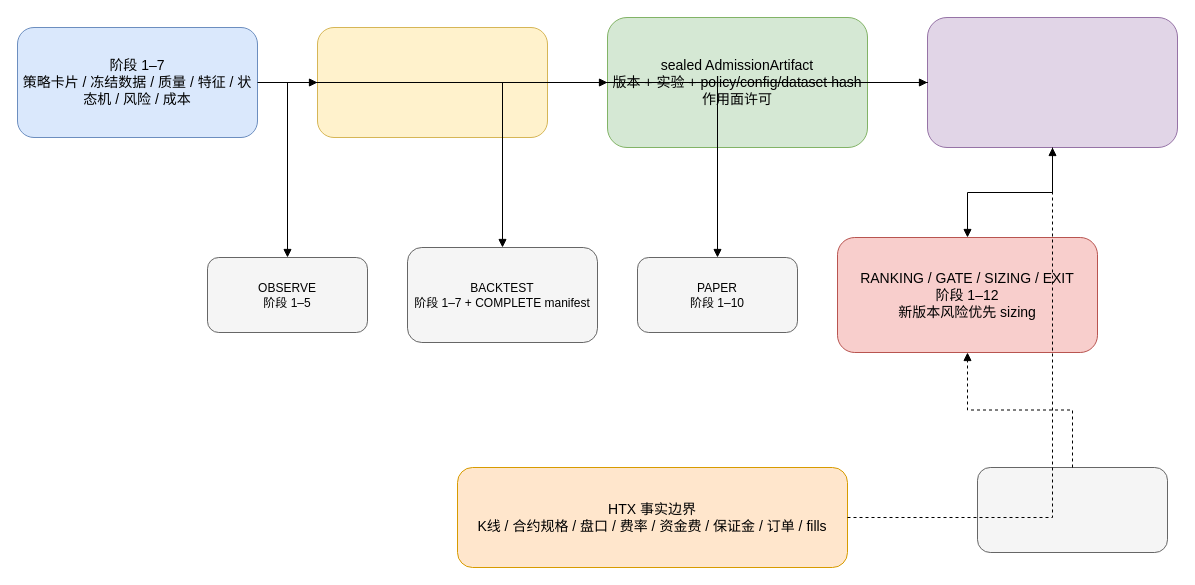
Some shapes in this 1195 by 585 pixel diagram are drawn without their labels. Each missing label, with the centre of its shape:
HTX_TREND_V1 存量兼容，不自动切换: pixel 1072 509
HtxStrategyDecisionEngine 同一 HTX completed-bar 输入 同一 java_entry_contract: pixel 1052 82
阶段 8–12 同源回测 / 消融 / OOS / PAPER / 报告: pixel 432 82
